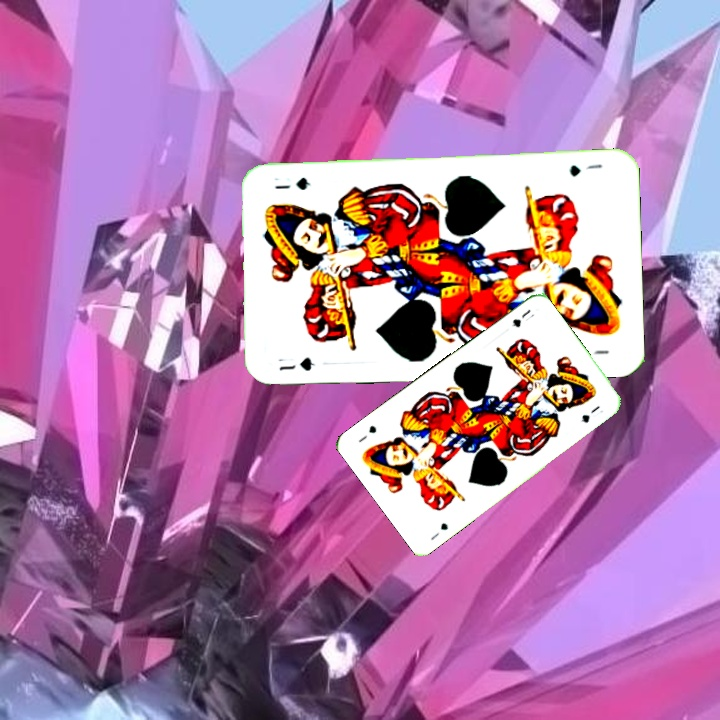GU: (274, 353, 317, 374), (566, 160, 605, 179), (508, 305, 533, 330), (427, 518, 451, 543)
